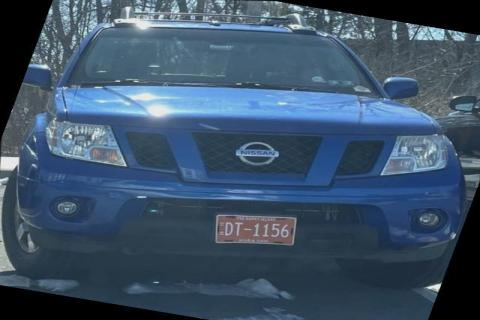LicensePlate: (213, 213, 295, 244)
